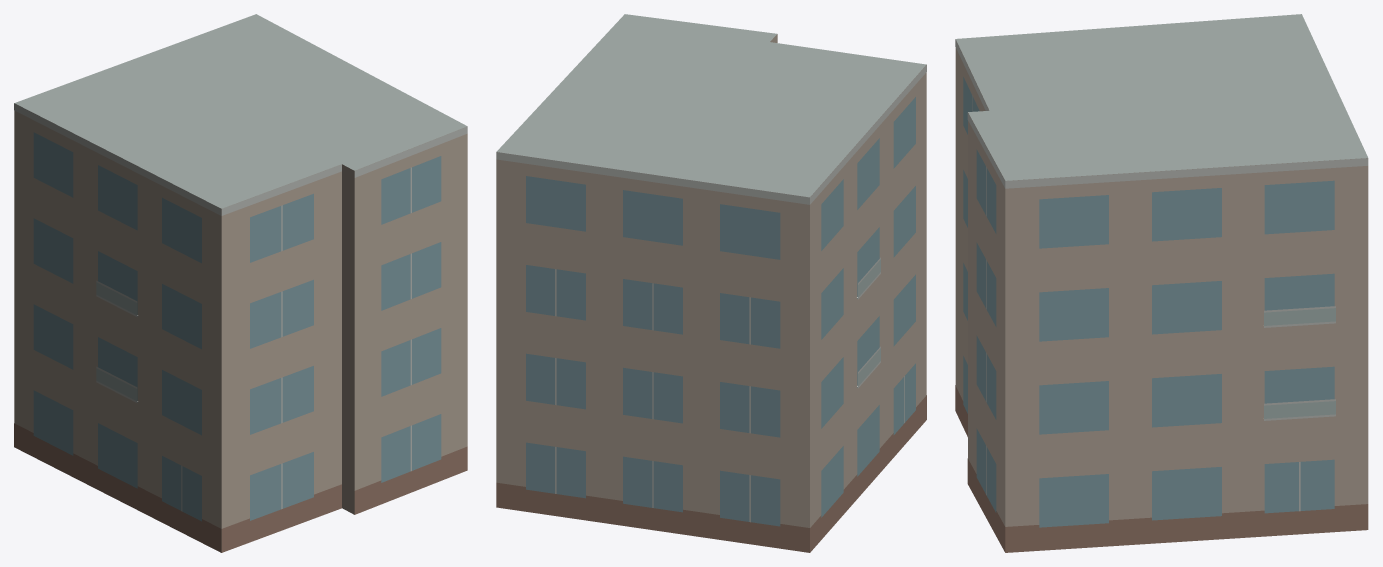
Rendered from survey-upis-32703461.glb.
3 renders of one model, left to right at view 1: azimuth 30°, elevation 25°; view 2: azimuth 150°, elevation 25°; view 3: azimuth 270°, elevation 25°, orthographic. The views are drawn at different scales.
Parts seen in each view (by area): view 1: survey-upis-32703461.tmp; view 2: survey-upis-32703461.tmp; view 3: survey-upis-32703461.tmp.
Boxes of the visible parts, x1,y1,x2,y2 form: survey-upis-32703461.tmp: (14, 14, 467, 552); survey-upis-32703461.tmp: (496, 14, 926, 552); survey-upis-32703461.tmp: (955, 14, 1368, 552).
Size of the model in its own units: 11.17 by 11.6 by 11.68.
